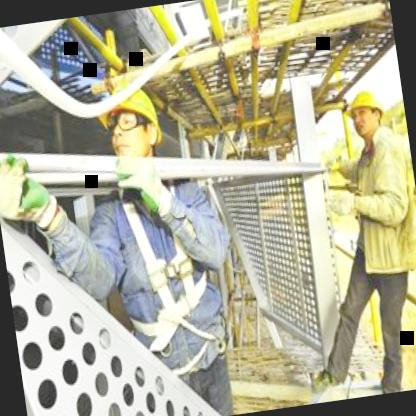helmet: (92, 71, 172, 168), (341, 80, 392, 144)
